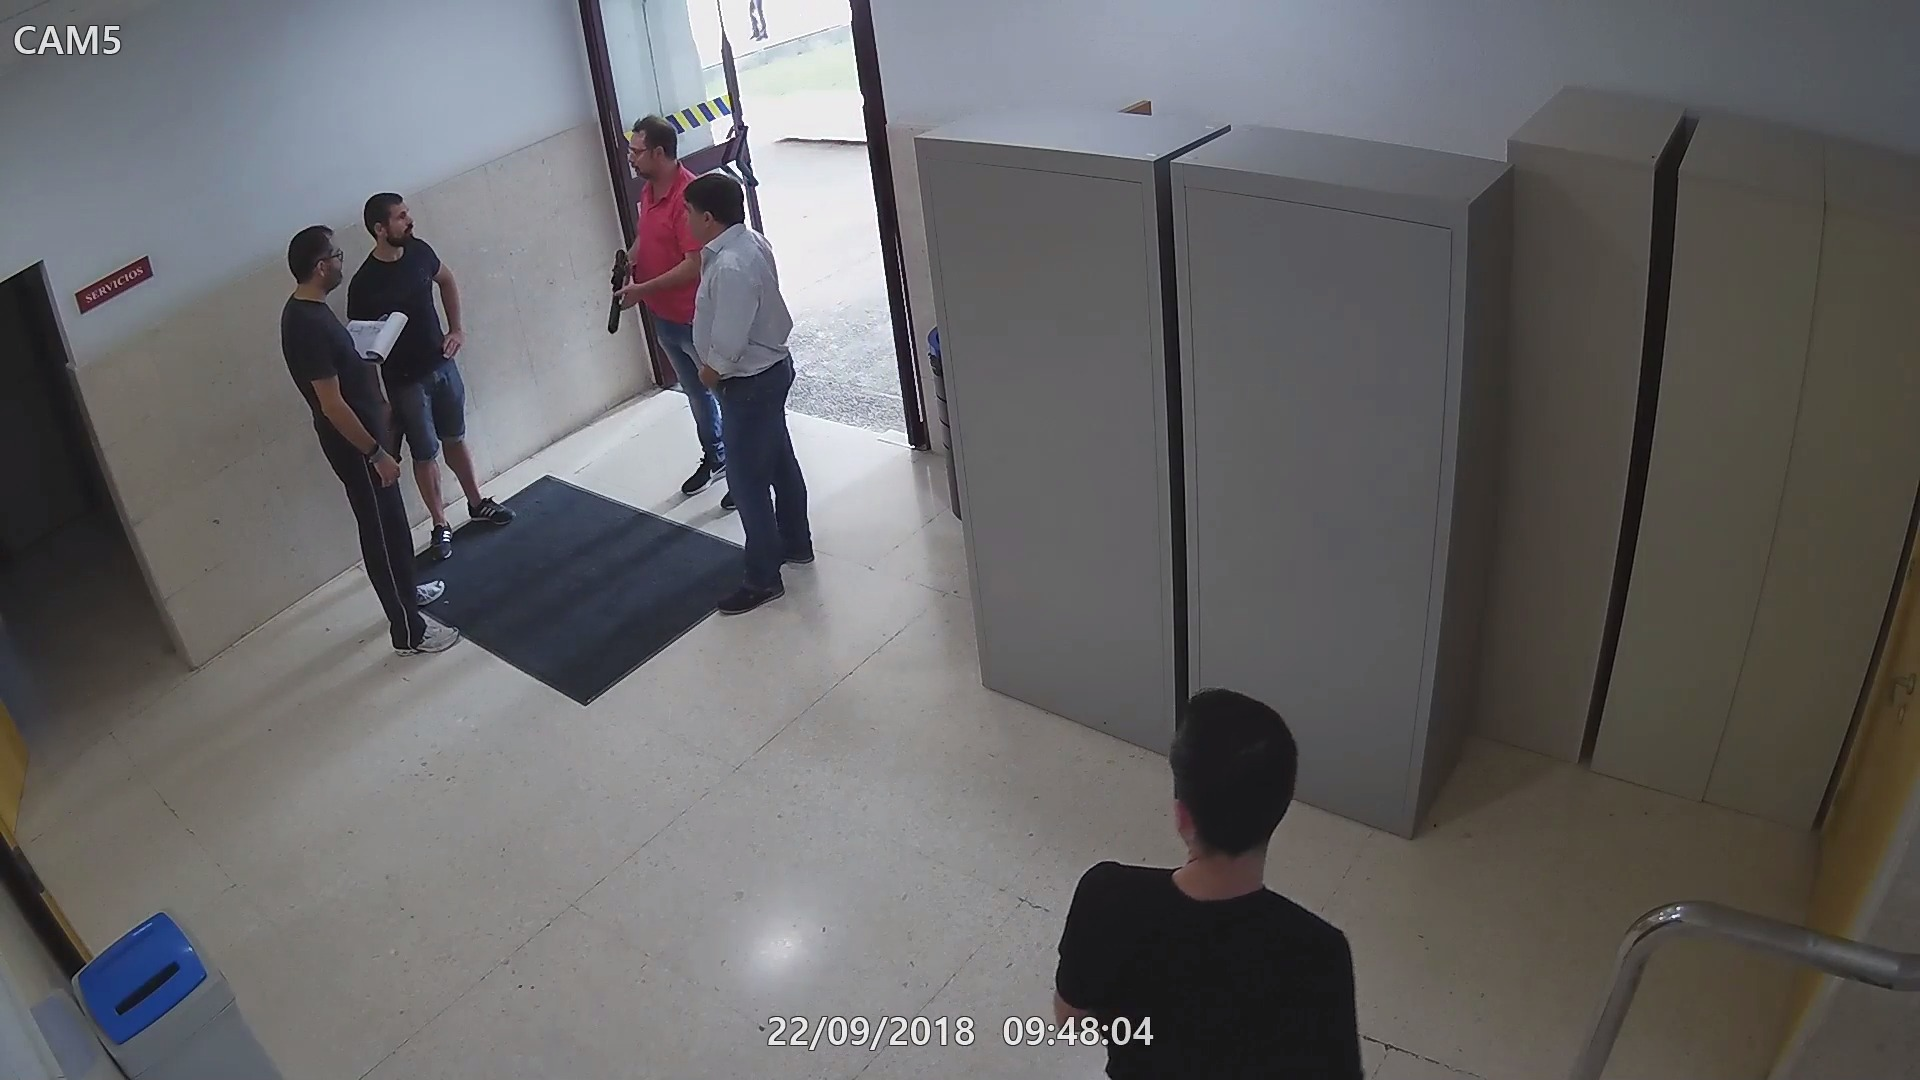Short_rifle: (382, 396, 415, 471), (605, 251, 632, 338)
